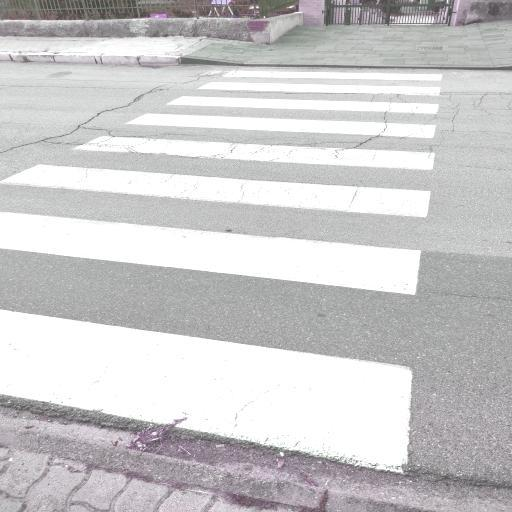crosswalk: (1, 207, 435, 478), (53, 110, 447, 178), (194, 58, 447, 98)
